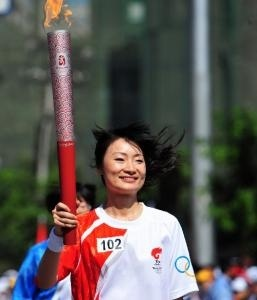fire: (41, 0, 72, 28)
